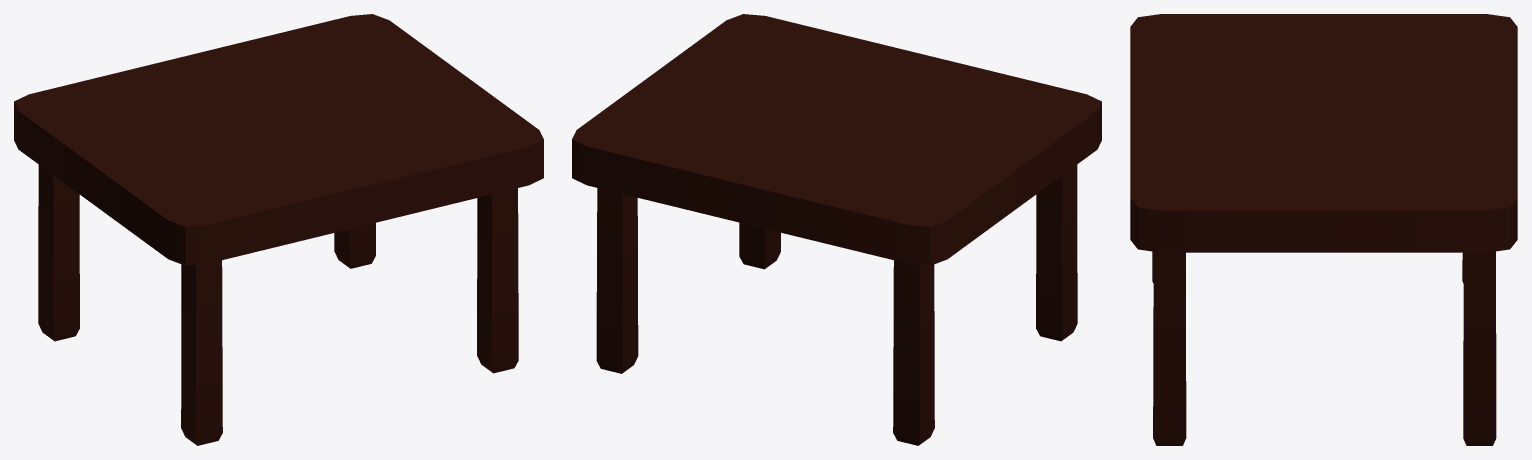
File: mesa.fbx
3 renders of one model, left to right at view 1: azimuth 30°, elevation 25°; view 2: azimuth 150°, elevation 25°; view 3: azimuth 270°, elevation 25°, orthographic. The views are drawn at different scales.
Parts seen in each view (by area): view 1: tabla, pata2, pata4, pata1, pata3; view 2: tabla, pata1, pata3, pata2, pata4; view 3: tabla, pata3, pata4.
Part boxes in pixels (x1,y1,x2,y2): tabla: (14,14,543,265); pata2: (181,260,222,445); pata4: (477,188,518,373); pata1: (38,165,79,341); pata3: (334,223,375,268); tabla: (572,14,1101,265); pata1: (893,260,934,445); pata3: (596,188,638,373); pata2: (1036,165,1077,341); pata4: (739,222,780,269); tabla: (1130,14,1517,252); pata3: (1463,251,1496,445); pata4: (1153,251,1186,445).
Size of the model in its own units: 300 by 180 by 250.
